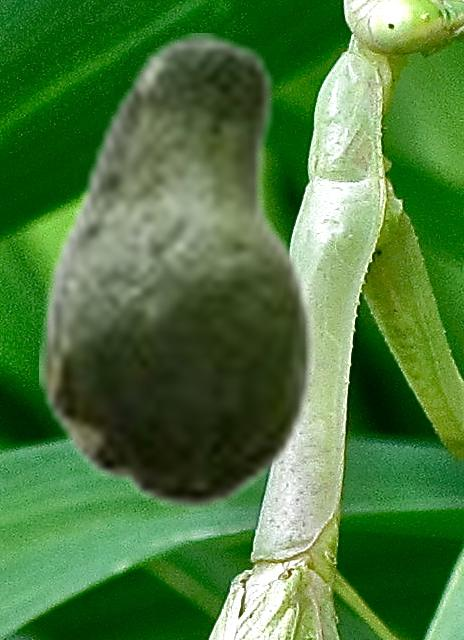sayote: (39, 33, 313, 511)
